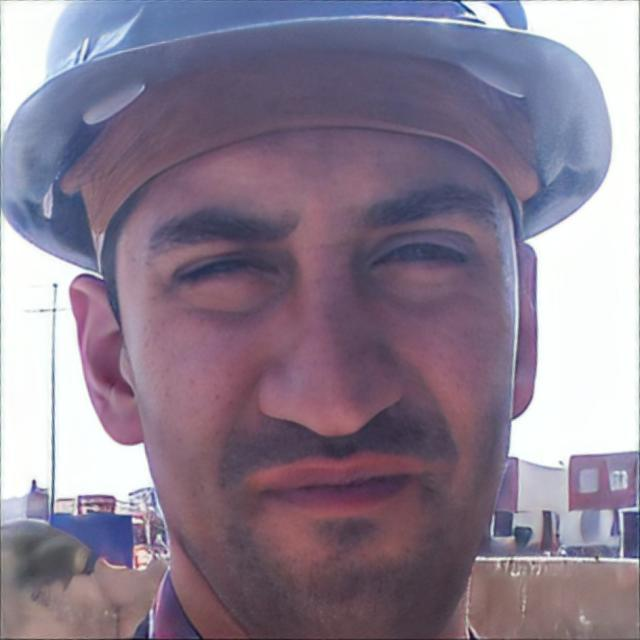disgust: (116, 130, 522, 640)
